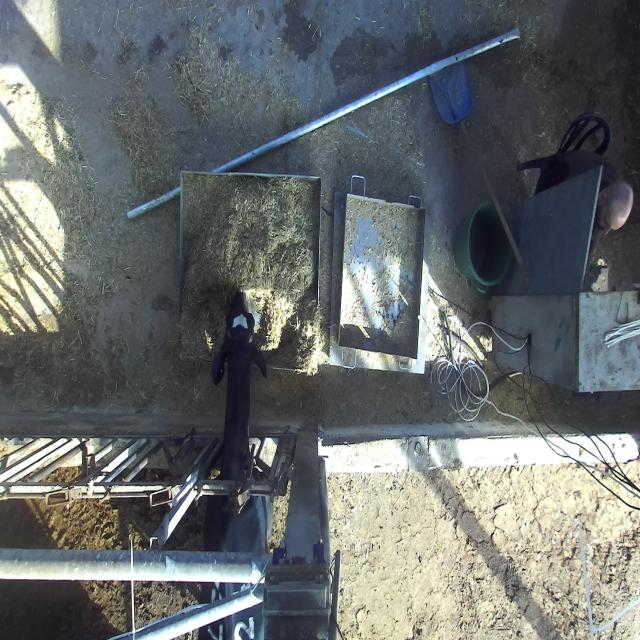cow: (210, 292, 269, 384)
